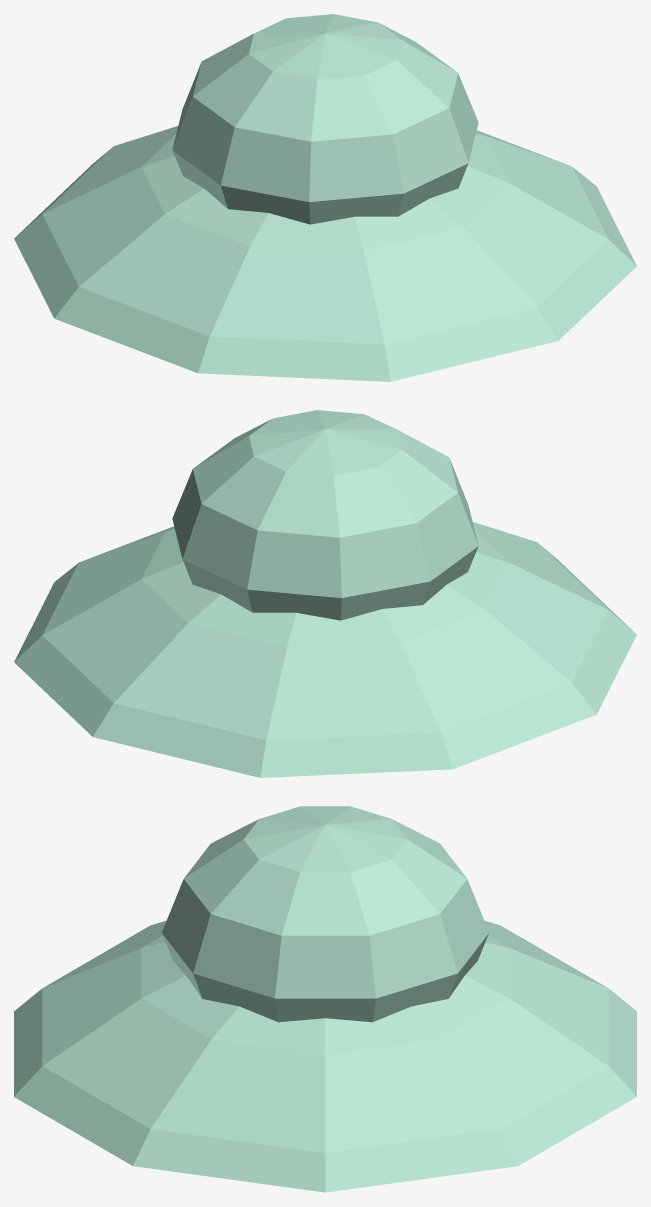
The model's file is prp_food_token_c.glb.
3 renders of one model, top to bottom at view 1: azimuth 30°, elevation 25°; view 2: azimuth 150°, elevation 25°; view 3: azimuth 270°, elevation 25°, orthographic. The views are drawn at different scales.
Parts seen in each view (by area): view 1: prp_food_token_c_bowl, prp_food_token_c_heap; view 2: prp_food_token_c_bowl, prp_food_token_c_heap; view 3: prp_food_token_c_bowl, prp_food_token_c_heap.
Boxes of the visible parts, x1,y1,x2,y2 form: prp_food_token_c_bowl: [14, 126, 636, 381]; prp_food_token_c_heap: [172, 14, 478, 224]; prp_food_token_c_bowl: [14, 522, 636, 777]; prp_food_token_c_heap: [172, 410, 478, 620]; prp_food_token_c_bowl: [14, 920, 636, 1192]; prp_food_token_c_heap: [162, 806, 488, 1022].
Bounding box in the file's own units: 0.44 × 0.17 × 0.4185.
